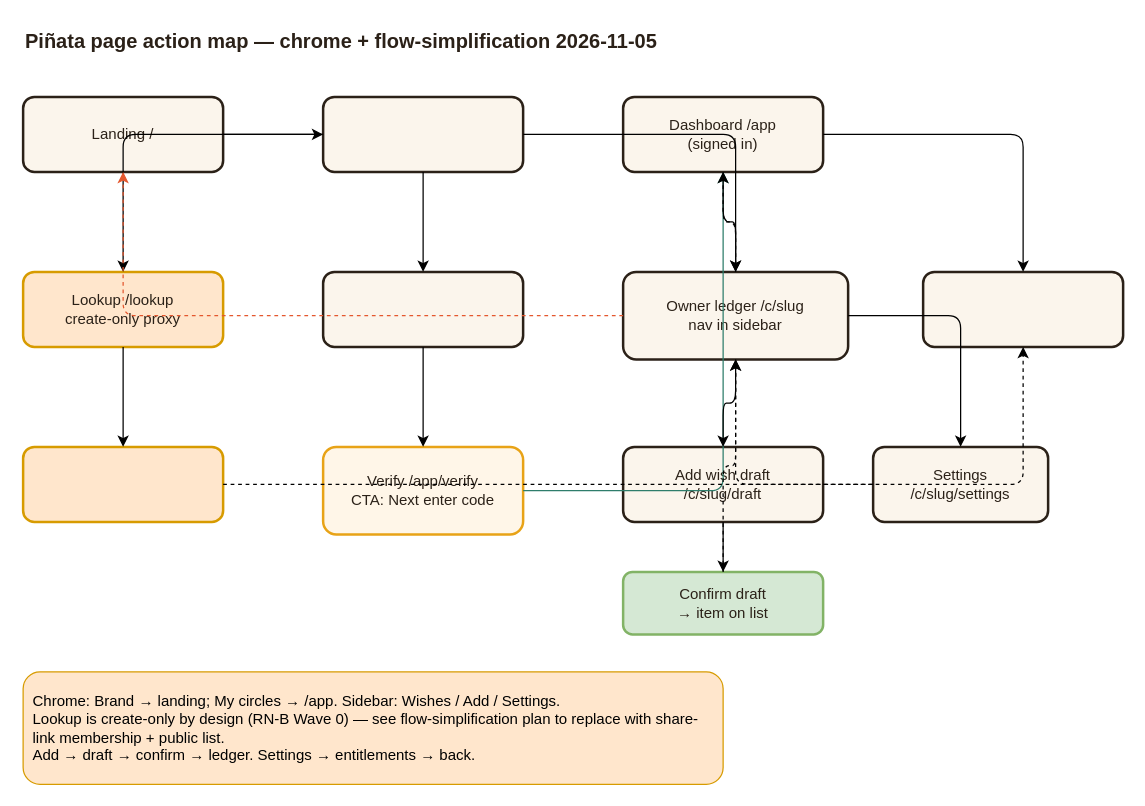
Some shapes in this 1145 by 806 pixel diagram are drawn without their labels. The shapes that lost their labels are listed below. From the top down, each one's centre as x and y in pixels, then its label:
At (x=422, y=133): "Hub /app (signed out)".
At (x=422, y=309): "Find /app/find".
At (x=1022, y=309): "Friend ledger /c/slug".
At (x=122, y=483): "Proxy offer (always-200)".
